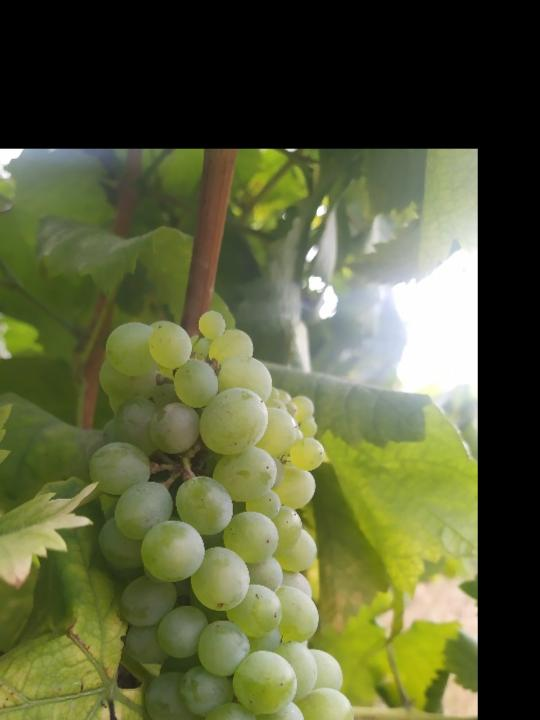grape: (86, 309, 366, 720)
